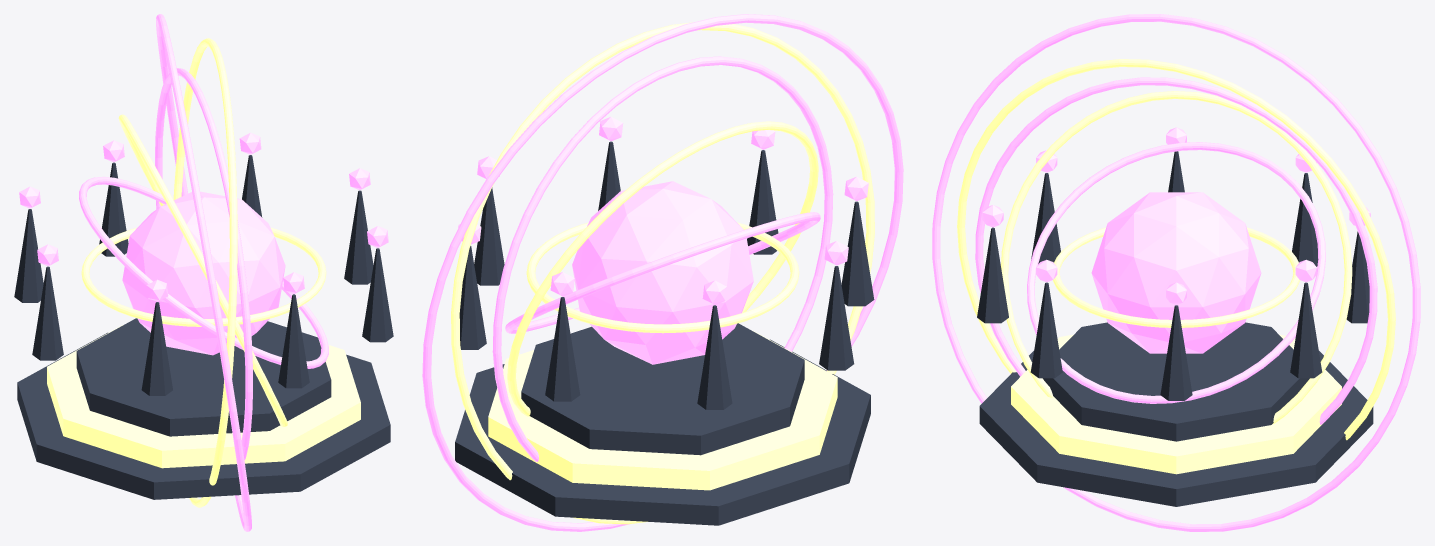
File: gpu-blender-v17.glb
The picture shows the model from 3 angles, left to right: view 1: azimuth 30°, elevation 25°; view 2: azimuth 150°, elevation 25°; view 3: azimuth 270°, elevation 25°; orthographic projection. The views are drawn at different scales.
Visible parts, largest first — view 1: Cylinder.002, Cylinder, SovereignCore_shopify-connector, Cylinder.001, Torus.005, Torus.004, Torus.003, Torus.001, Torus, Torus.002, Cone.007, Cone.006 (+6 smaller); view 2: Cylinder.002, SovereignCore_shopify-connector, Cylinder, Cylinder.001, Torus.005, Torus.004, Torus.003, Torus.002, Torus.001, Torus, Cone.004, Cone.002 (+6 smaller); view 3: SovereignCore_shopify-connector, Cylinder.002, Cylinder, Cylinder.001, Torus.005, Torus.004, Torus.003, Torus.002, Torus.001, Torus, Cone.001, Cone.007 (+5 smaller).
Part boxes in pixels (bbox=[...]): Cylinder.002: bbox=[76, 318, 331, 436]; Cylinder: bbox=[17, 332, 390, 499]; SovereignCore_shopify-connector: bbox=[122, 191, 285, 355]; Cylinder.001: bbox=[47, 325, 360, 468]; Torus.005: bbox=[156, 14, 251, 531]; Torus.004: bbox=[173, 38, 237, 507]; Torus.003: bbox=[155, 68, 252, 459]; Torus.001: bbox=[79, 176, 328, 368]; Torus: bbox=[81, 227, 326, 326]; Torus.002: bbox=[118, 114, 287, 426]; Cone.007: bbox=[362, 248, 393, 342]; Cone.006: bbox=[278, 294, 309, 388]; Cylinder.002: bbox=[521, 323, 804, 455]; SovereignCore_shopify-connector: bbox=[572, 181, 753, 364]; Cylinder: bbox=[455, 339, 870, 525]; Cylinder.001: bbox=[488, 330, 837, 490]; Torus.005: bbox=[422, 14, 903, 531]; Torus.004: bbox=[451, 22, 874, 524]; Torus.003: bbox=[492, 56, 833, 461]; Torus.002: bbox=[507, 121, 818, 416]; Torus.001: bbox=[505, 212, 820, 333]; Torus: bbox=[526, 222, 799, 333]; Cone.004: bbox=[819, 266, 854, 370]; Cone.002: bbox=[545, 297, 580, 401]; SovereignCore_shopify-connector: bbox=[1091, 192, 1261, 353]; Cylinder.002: bbox=[1043, 322, 1309, 441]; Cylinder: bbox=[979, 351, 1373, 506]; Cylinder.001: bbox=[1011, 334, 1341, 474]; Torus.005: bbox=[932, 14, 1420, 531]; Torus.004: bbox=[957, 59, 1395, 440]; Torus.003: bbox=[975, 77, 1377, 424]; Torus.002: bbox=[1001, 91, 1352, 423]; Torus.001: bbox=[1027, 142, 1325, 403]; Torus: bbox=[1053, 227, 1299, 327]; Cone.001: bbox=[1290, 282, 1322, 378]; Cone.007: bbox=[1030, 282, 1062, 378].
Bounding box in the file's own units: 4.41 × 5.93 × 5.46.
